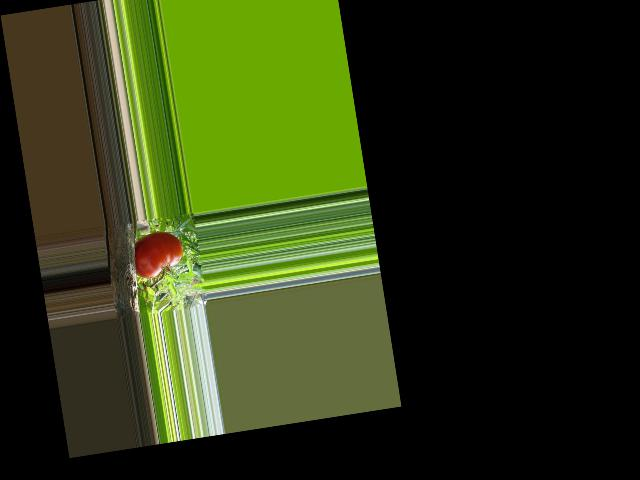tomato: (130, 229, 186, 280)
